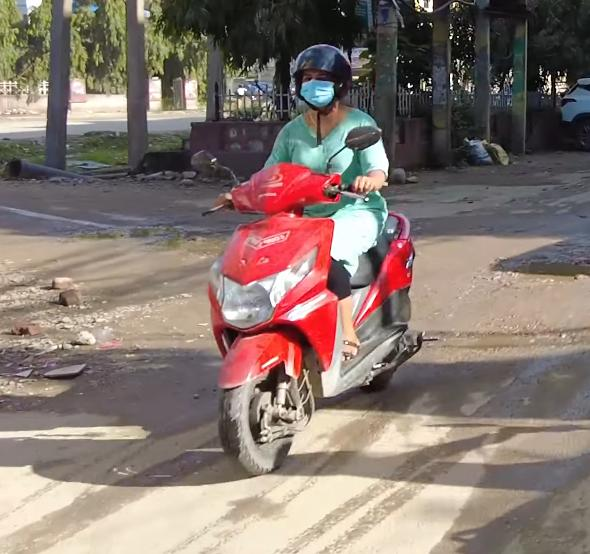scooter: (177, 122, 423, 492)
